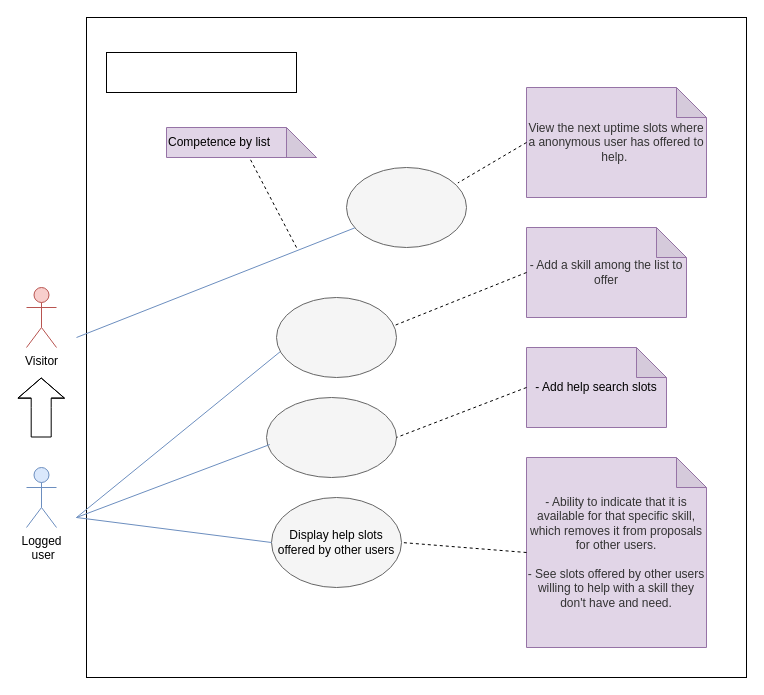
This 764x695 diagram has some shape labels left out. The shapes that lost their labels are listed below. From the top down, each one's centre as x and y in pixels, then its label:
point 201,72: Echange de compétence
point 406,207: Display skills
point 336,337: Management of his skills
point 331,437: Manage slots of search help
